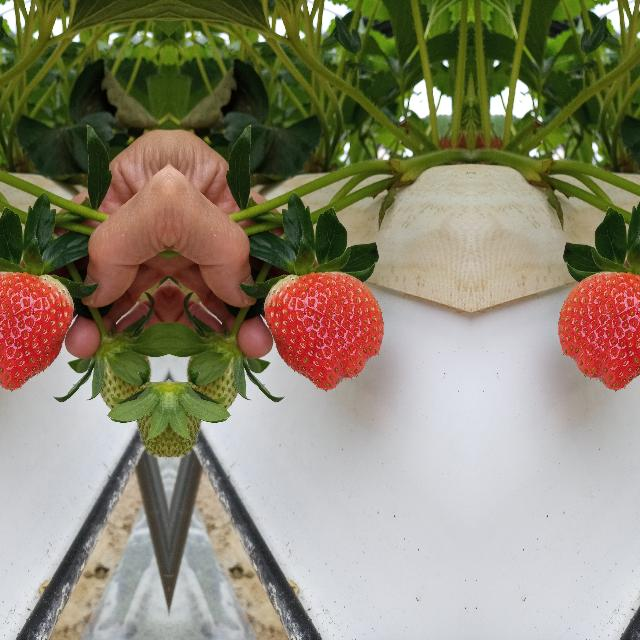Health_100: (262, 271, 383, 391), (557, 271, 640, 391), (0, 271, 73, 391)
Health_25: (178, 339, 264, 421), (72, 339, 158, 421)
